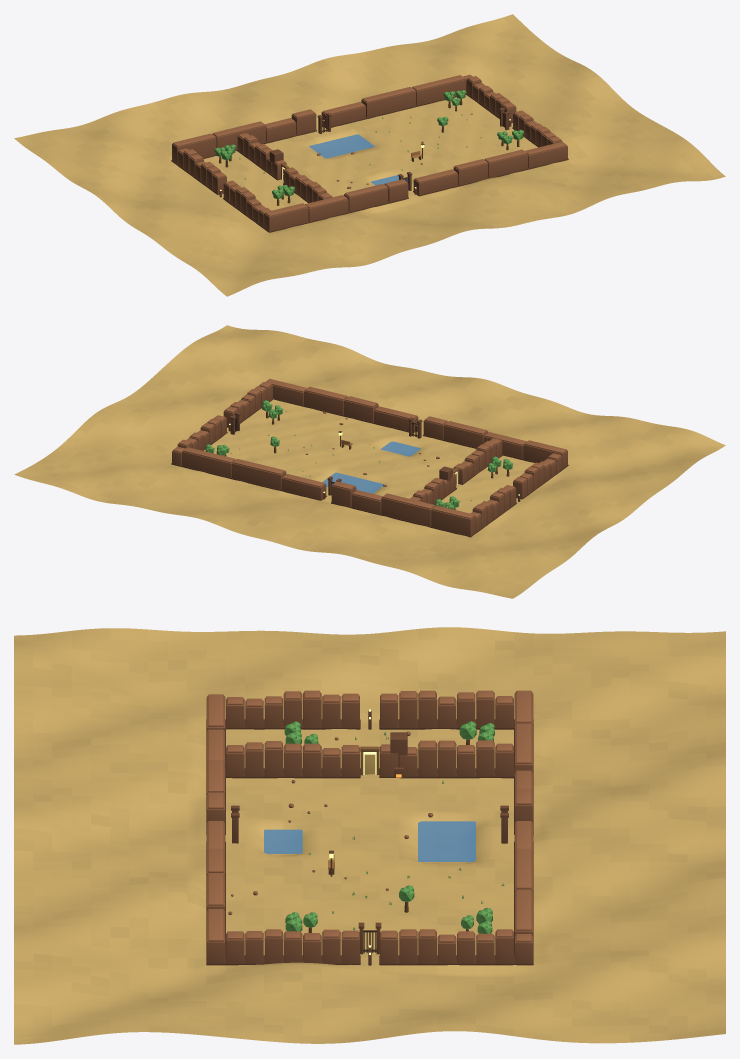
Rendered from hub.glb.
3 views of the same model, one above another, from view 1: azimuth 30°, elevation 25°; view 2: azimuth 150°, elevation 25°; view 3: azimuth 270°, elevation 25° (orthographic). The views are drawn at different scales.
Parts seen in each view (by area): view 1: ground, walls, trees, water, props; view 2: ground, walls, trees, water, props; view 3: ground, walls, water, trees, props.
Part boxes in pixels (box(x1,y1,x2,y2)): ground: box(14, 14, 725, 296); walls: box(171, 74, 568, 232); trees: box(214, 90, 523, 205); water: box(309, 134, 407, 185); props: box(219, 107, 520, 197); ground: box(14, 325, 725, 598); walls: box(171, 379, 568, 537); trees: box(205, 400, 512, 509); water: box(322, 441, 420, 493); props: box(228, 411, 520, 501); ground: box(14, 627, 725, 1044); walls: box(206, 690, 533, 965); water: box(264, 821, 475, 861); trees: box(284, 721, 494, 933); props: box(228, 709, 508, 965).
Size of the model in its own units: 50 by 2.69 by 37.
